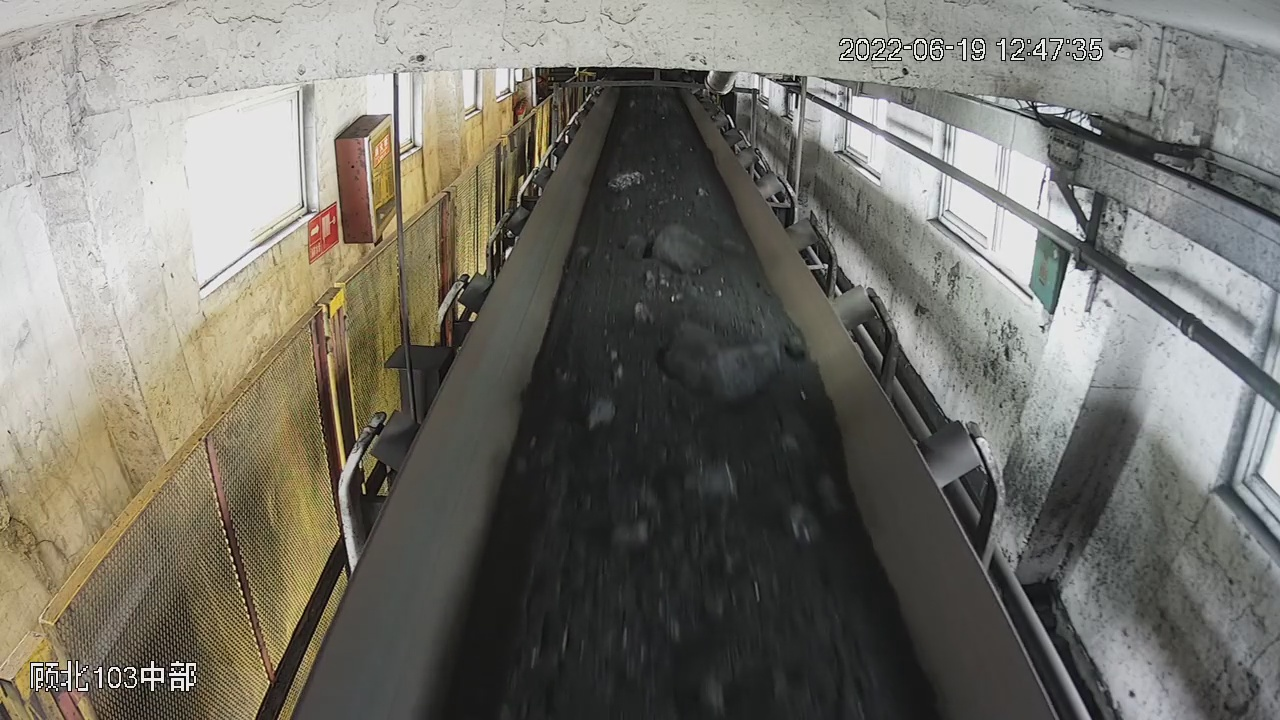gangue: (663, 302, 784, 400), (655, 227, 721, 272), (685, 460, 735, 495), (791, 505, 821, 541), (591, 394, 619, 430), (613, 524, 649, 547), (632, 299, 659, 323), (625, 235, 650, 260), (611, 171, 641, 188)
